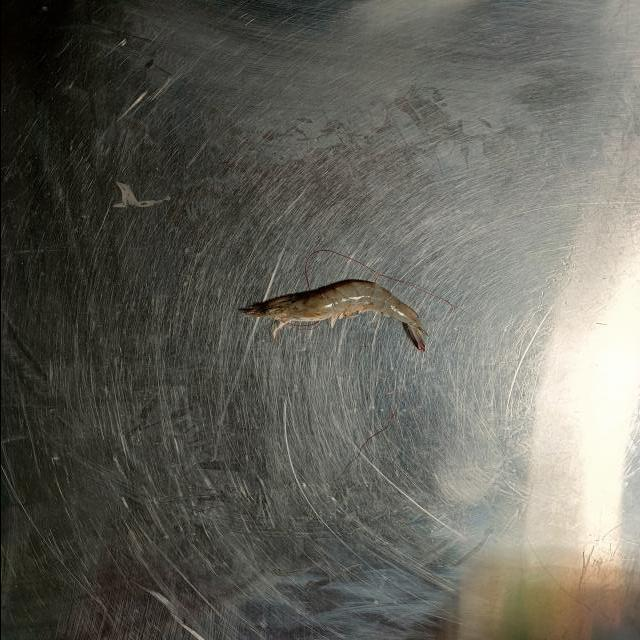shrimp: (242, 280, 426, 351)
